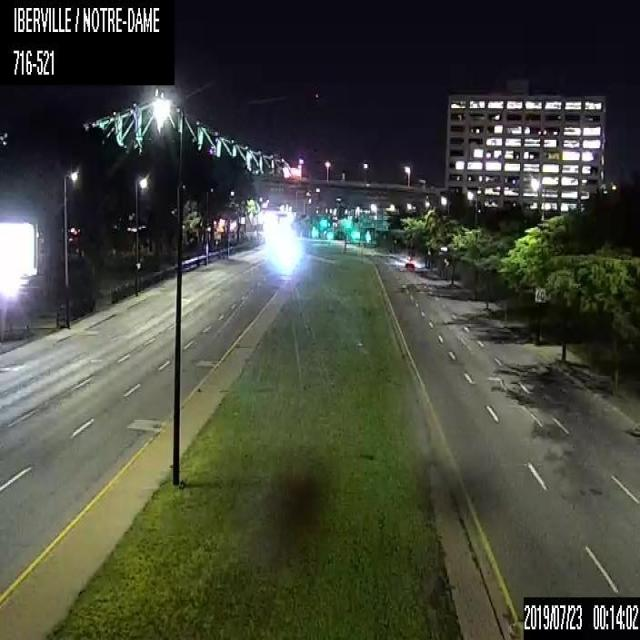vehicle: (402, 259, 414, 269)
